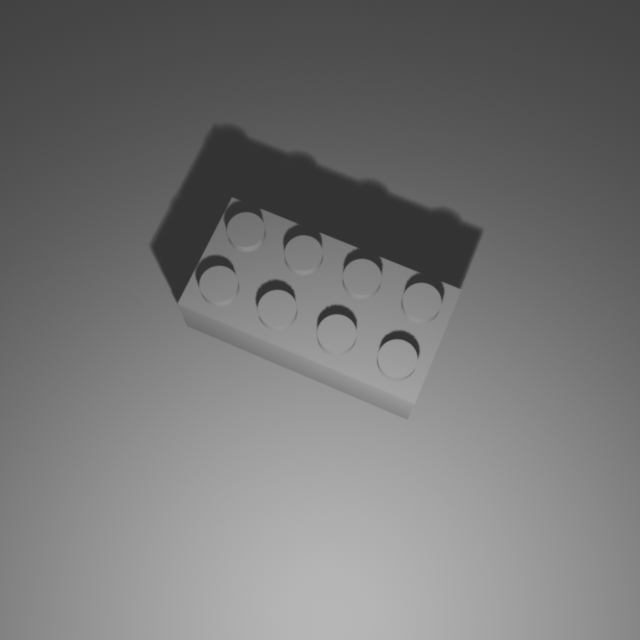lego_2x4: (176, 192, 464, 420)
